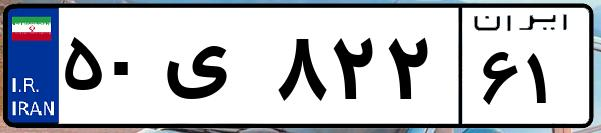0: (110, 28, 158, 98)
1: (525, 38, 570, 115)
2: (385, 28, 445, 110), (330, 28, 385, 110)
5: (57, 26, 110, 100)
6: (475, 38, 525, 113)
8: (270, 28, 330, 110)
ی: (158, 20, 270, 120)
